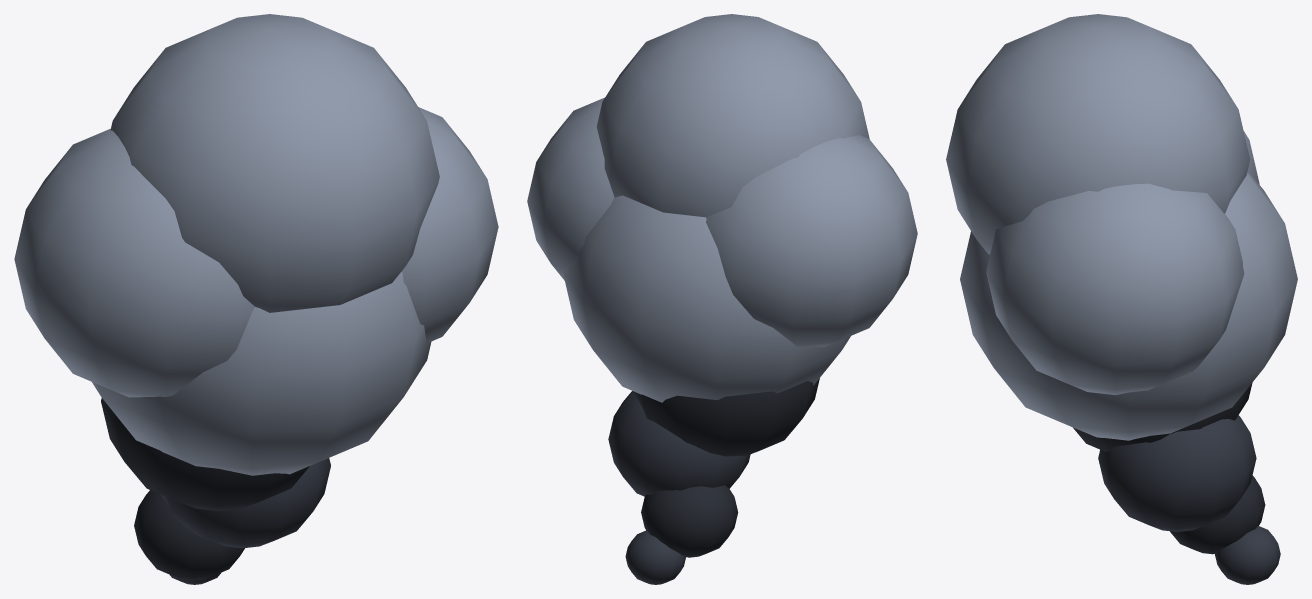
Rendered from brume.glb.
3 views of the same model, side by side, from view 1: azimuth 30°, elevation 25°; view 2: azimuth 150°, elevation 25°; view 3: azimuth 270°, elevation 25° (orthographic). The views are drawn at different scales.
Parts seen in each view (by area): view 1: shell_0, shell_1, shell_3, shell_2, puff_4, puff_5, puff_6; view 2: shell_0, shell_3, shell_1, shell_2, puff_4, puff_5, puff_6, puff_7; view 3: shell_0, shell_2, shell_3, puff_5, puff_6, puff_7, puff_4.
Boxes of the visible parts, x1=… form: shell_0: x1=110, y1=14, x2=439, y2=312; shell_1: x1=14, y1=129, x2=254, y2=397; shell_3: x1=92, y1=272, x2=431, y2=475; shell_2: x1=401, y1=107, x2=498, y2=343; puff_4: x1=101, y1=398, x2=309, y2=511; puff_5: x1=161, y1=458, x2=330, y2=548; puff_6: x1=134, y1=490, x2=244, y2=580; shell_0: x1=596, y1=14, x2=869, y2=217; shell_3: x1=563, y1=195, x2=850, y2=402; shell_1: x1=706, y1=135, x2=917, y2=346; shell_2: x1=527, y1=97, x2=614, y2=280; puff_4: x1=633, y1=378, x2=819, y2=456; puff_5: x1=608, y1=391, x2=750, y2=496; puff_6: x1=641, y1=485, x2=738, y2=557; puff_7: x1=625, y1=530, x2=685, y2=584; shell_0: x1=946, y1=14, x2=1250, y2=254; shell_2: x1=986, y1=183, x2=1244, y2=395; shell_3: x1=960, y1=170, x2=1297, y2=440; puff_5: x1=1098, y1=415, x2=1256, y2=531; puff_6: x1=1170, y1=475, x2=1265, y2=554; puff_7: x1=1215, y1=526, x2=1280, y2=584; puff_4: x1=1073, y1=382, x2=1252, y2=451.
Size of the model in its own units: 0.6809 by 0.909 by 0.5277.
